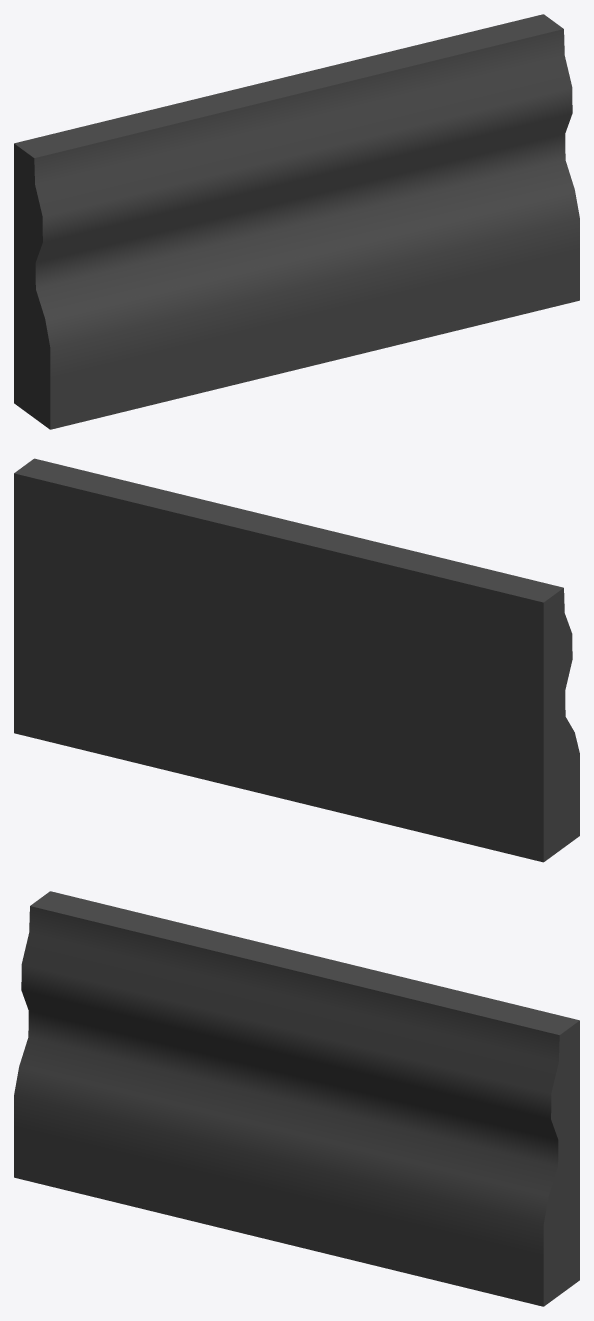
File: TexturedWallTrim.fbx
The picture shows the model from 3 angles, top to bottom: view 1: azimuth 30°, elevation 25°; view 2: azimuth 150°, elevation 25°; view 3: azimuth 330°, elevation 25°; orthographic projection.
Parts seen in each view (by area): view 1: pCube1; view 2: pCube1; view 3: pCube1.
Boxes of the visible parts, x1=… form: pCube1: x1=14, y1=14, x2=579, y2=429; pCube1: x1=14, y1=458, x2=579, y2=862; pCube1: x1=14, y1=891, x2=579, y2=1306.
Size of the model in its own units: 5.11 by 2.39 by 0.6062.
1 material, 1 textured.
